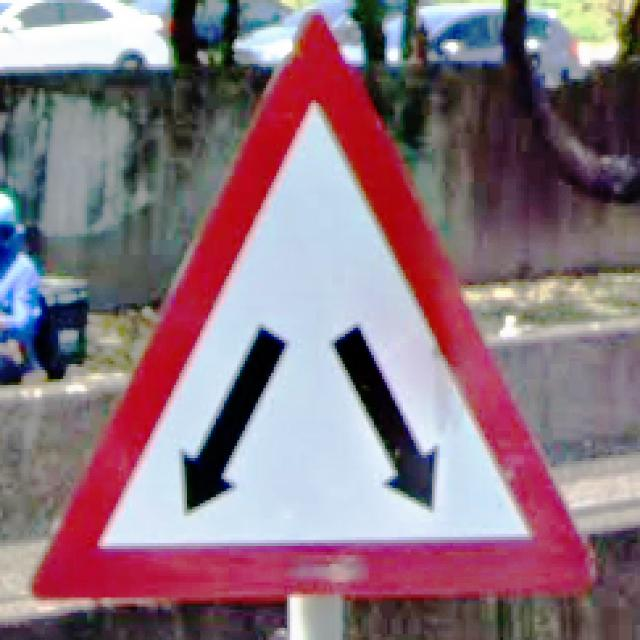diverge: (27, 9, 596, 607)
